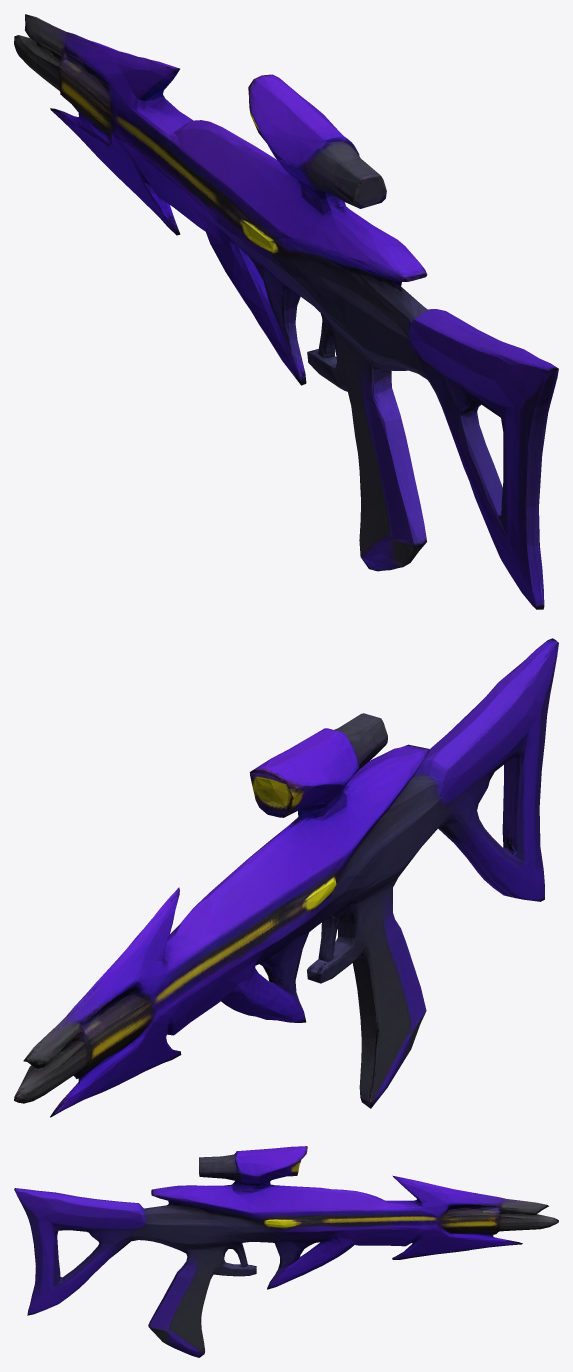
The model's file is carbine.glb.
3 views of the same model, one above another, from view 1: azimuth 30°, elevation 25°; view 2: azimuth 150°, elevation 25°; view 3: azimuth 270°, elevation 25° (orthographic). The views are drawn at different scales.
Parts seen in each view (by area): view 1: geometry_0; view 2: geometry_0; view 3: geometry_0.
Part boxes in pixels (box(x1,y1,x2,y2)): geometry_0: box(14, 14, 558, 609); geometry_0: box(14, 638, 558, 1117); geometry_0: box(14, 1146, 558, 1357).
Size of the model in its own units: 0.0735 by 0.4245 by 0.9963.
1 material, 1 textured.
